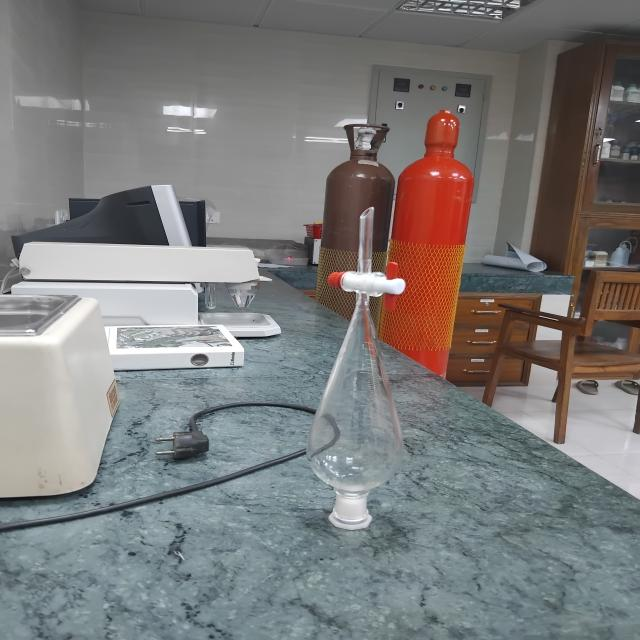Separating_Funnel: (277, 185, 452, 562)
